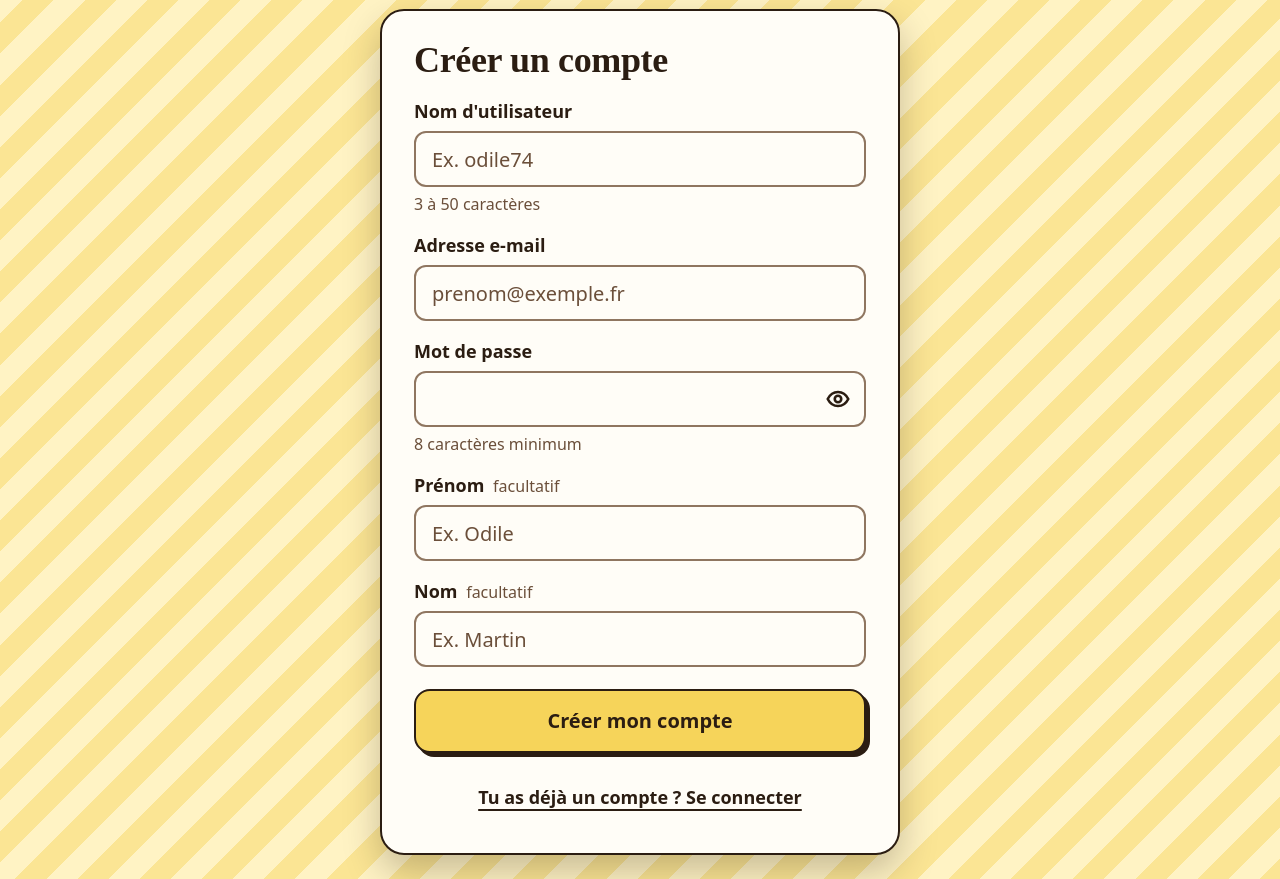
it: RegisterScreen › what is checked before asking the server › says what is missing under each required field, and sends nothing
The image size is (1280, 879).
(page scrolled)
Click the button "Créer mon compte": (640, 721) [414, 689, 866, 753]
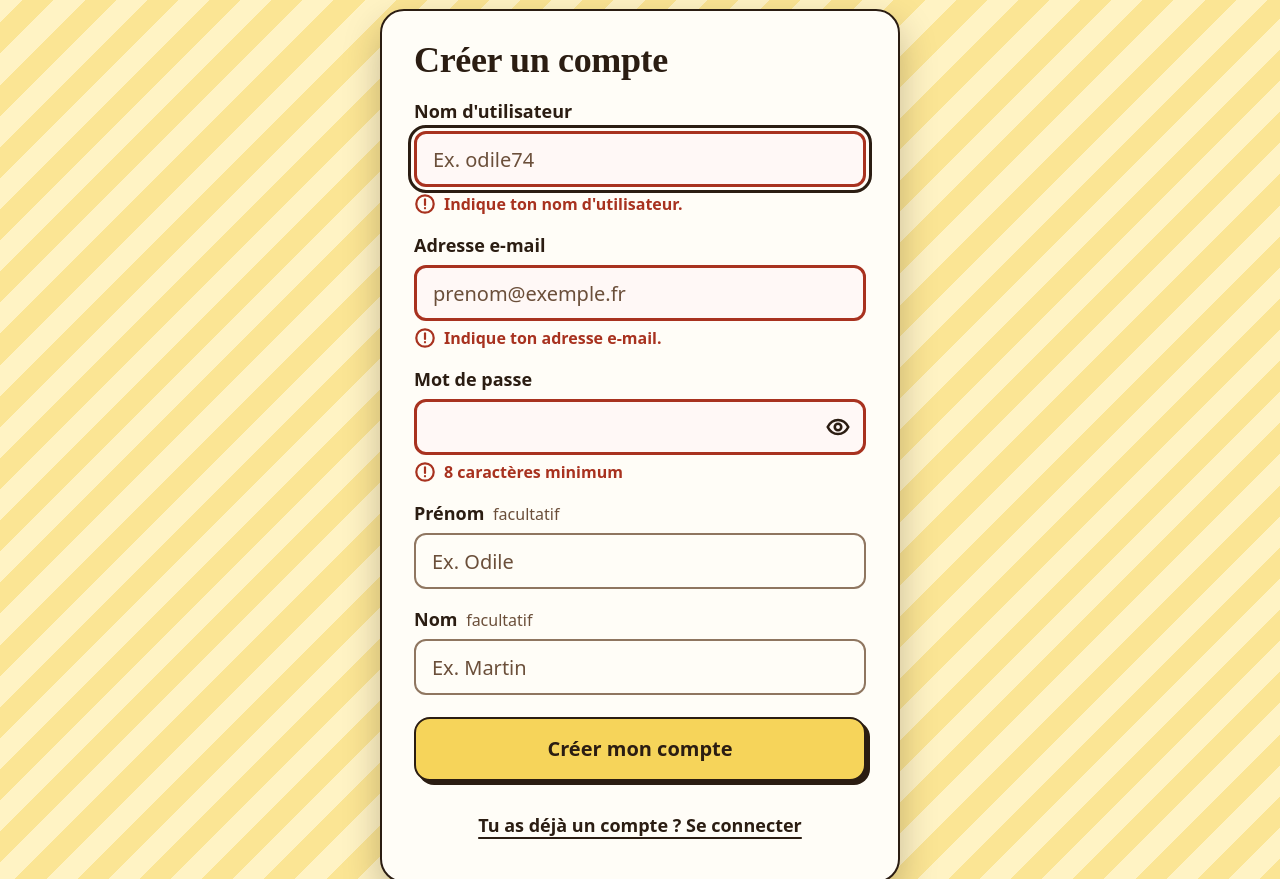
expect the text "Indique ton nom d'utilisateur." is shown: met, box [414, 193, 683, 215]
expect the text "Indique ton adresse e-mail." is shown: met, box [414, 327, 662, 349]
